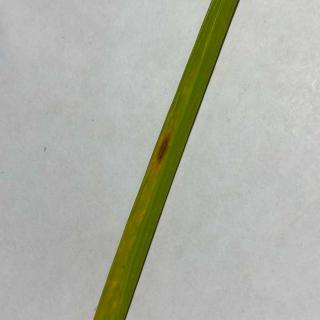bercak-Cokelat: (150, 128, 184, 170)
